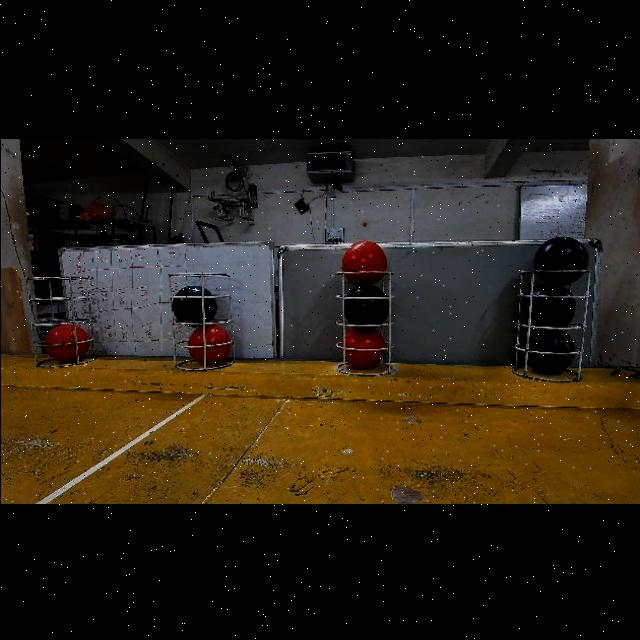P: (533, 233, 590, 284), (524, 328, 578, 374), (521, 281, 574, 327), (344, 282, 389, 324), (170, 283, 216, 322)
R: (339, 238, 385, 283), (340, 326, 384, 368), (186, 323, 230, 365), (46, 322, 91, 360)
S: (514, 260, 598, 374), (166, 266, 232, 374), (338, 272, 398, 382), (26, 275, 96, 369)
